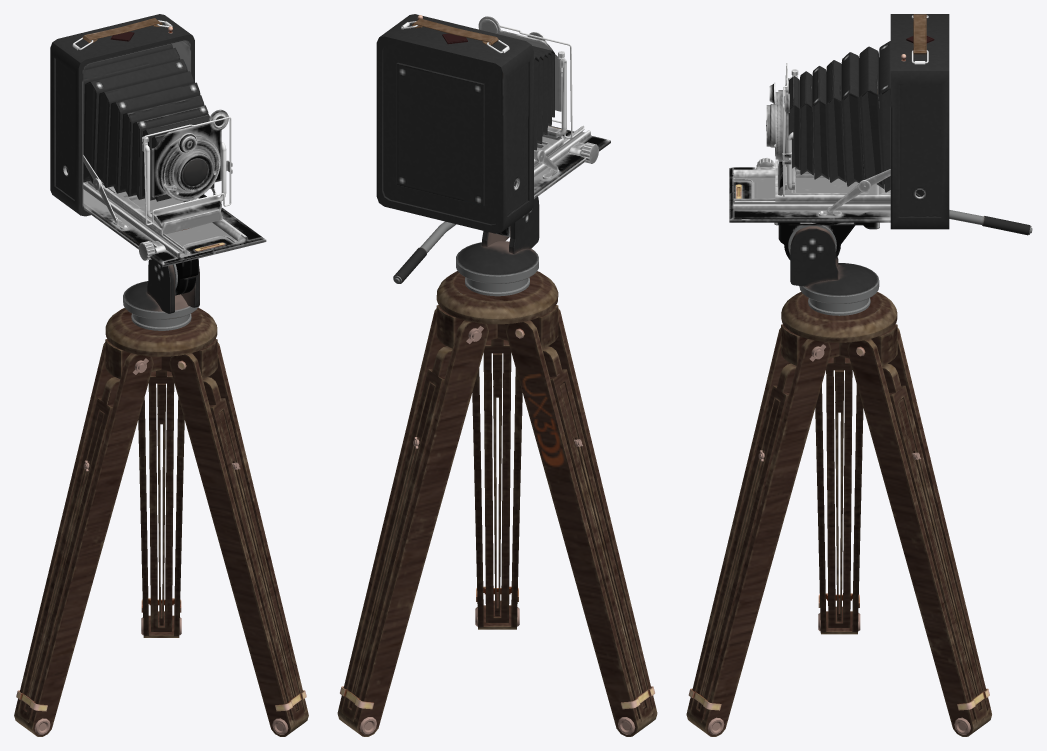
The model's file is antique-camera.glb.
3 renders of one model, left to right at view 1: azimuth 30°, elevation 25°; view 2: azimuth 150°, elevation 25°; view 3: azimuth 270°, elevation 25°, orthographic. The views are drawn at different scales.
Parts seen in each view (by area): view 1: tripod, camera; view 2: tripod, camera; view 3: tripod, camera.
Boxes of the visible parts, x1,y1,x2,y2 form: tripod: (14, 258, 308, 736); camera: (50, 14, 266, 266); tripod: (337, 196, 657, 736); camera: (376, 14, 610, 233); tripod: (686, 210, 1032, 736); camera: (729, 14, 949, 229).
Bounding box in the file's own units: 2.6 × 7.21 × 3.39.
2 materials, 2 textured.
